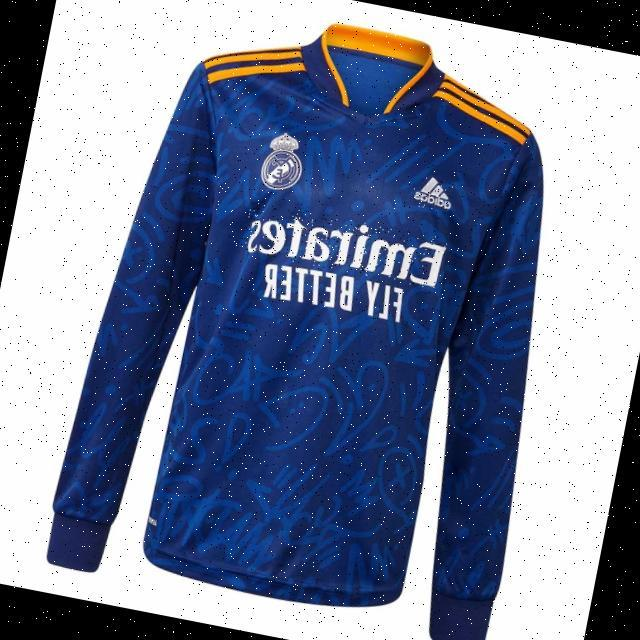Adidas: (410, 173, 456, 213)
Emirates: (242, 201, 449, 290)
